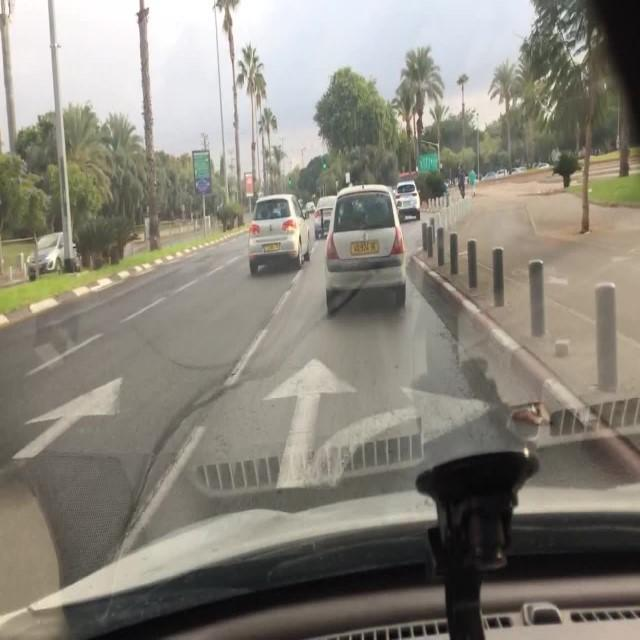normal: (324, 181, 408, 311), (248, 192, 315, 272), (395, 182, 422, 223)
